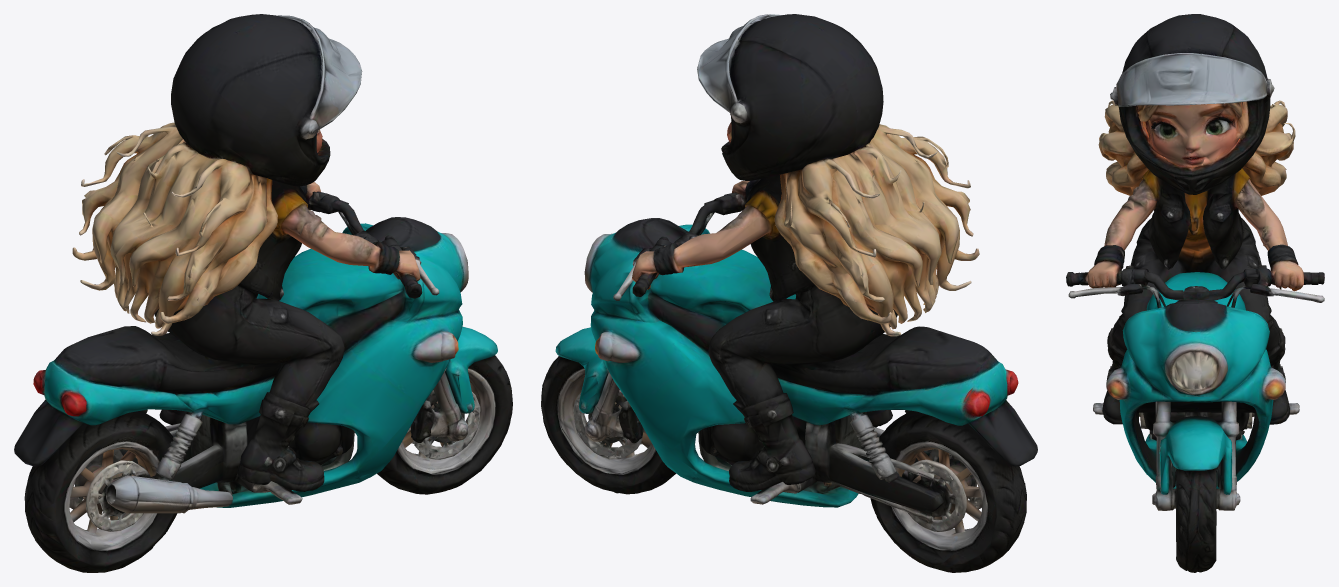
File: maddison.glb
3 views of the same model, side by side, from view 1: azimuth 30°, elevation 25°; view 2: azimuth 150°, elevation 25°; view 3: azimuth 270°, elevation 25° (orthographic). The views are drawn at different scales.
Size of the model in its own units: 0.978 by 0.9792 by 0.4941.
Materials: 1 (1 with a texture image).
